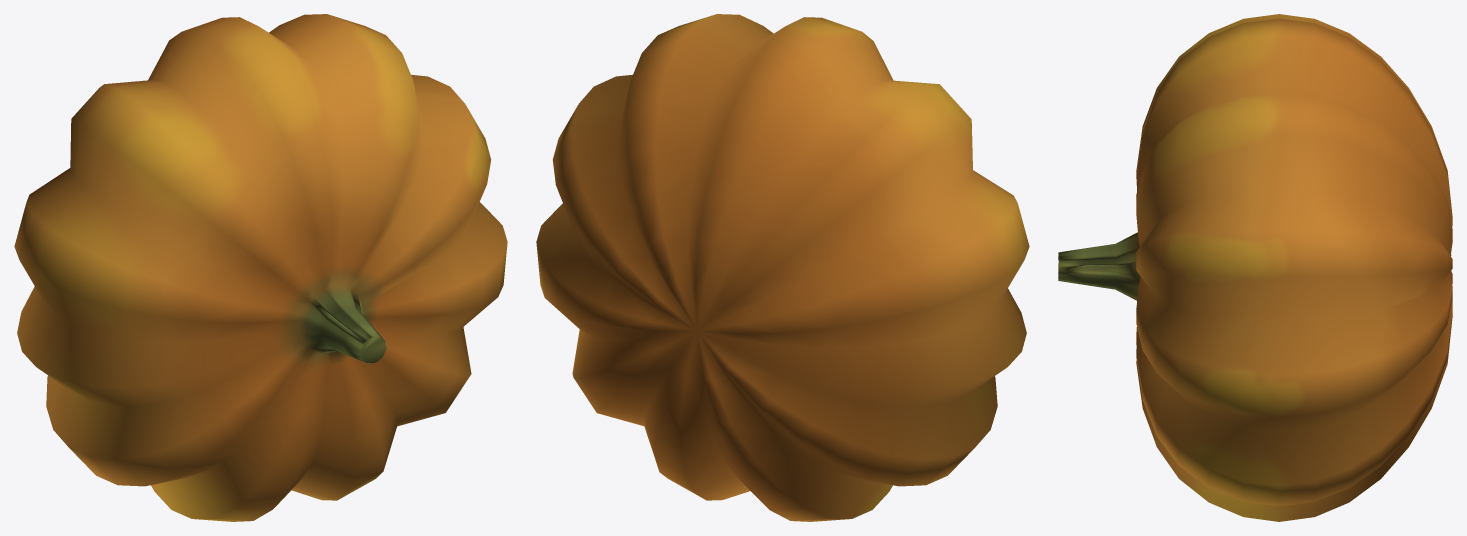
File: pumpkin.obj
The picture shows the model from 3 angles, left to right: view 1: azimuth 30°, elevation 25°; view 2: azimuth 150°, elevation 25°; view 3: azimuth 270°, elevation 25°; orthographic projection. The views are drawn at different scales.
Visible parts, largest first — view 1: pumpkin; view 2: pumpkin; view 3: pumpkin.
Boxes of the visible parts, <box> form: pumpkin: <box>14,14,507,521</box>; pumpkin: <box>536,14,1029,521</box>; pumpkin: <box>1058,14,1452,521</box>.
Bounding box in the file's own units: 5.02 × 5.02 × 3.91.
